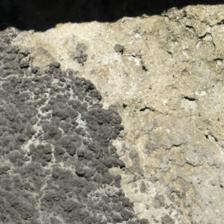Crack: (29, 48, 108, 220), (68, 3, 155, 104)
